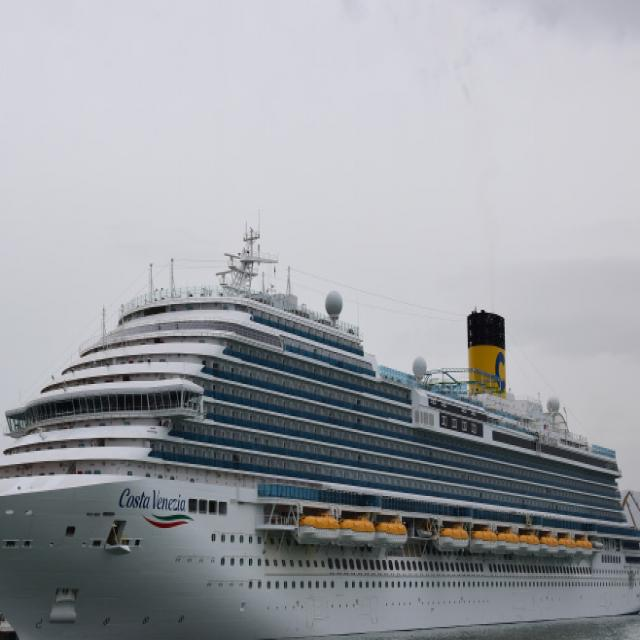cruises: (1, 229, 640, 640)
